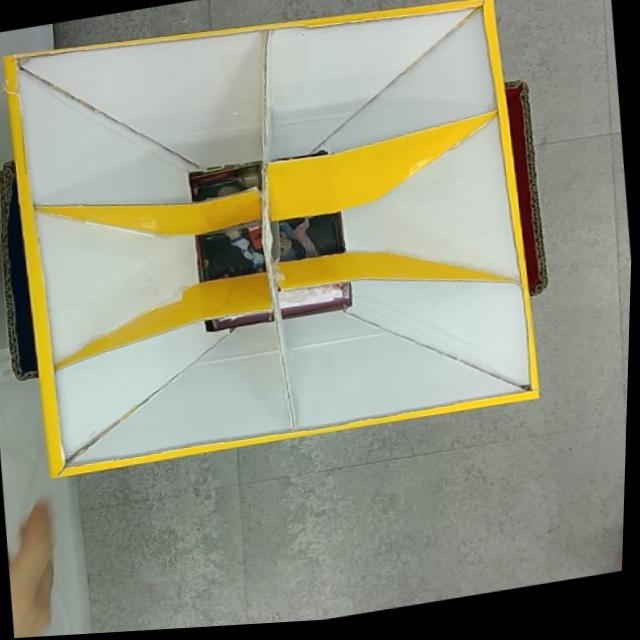box: (0, 0, 569, 487)
